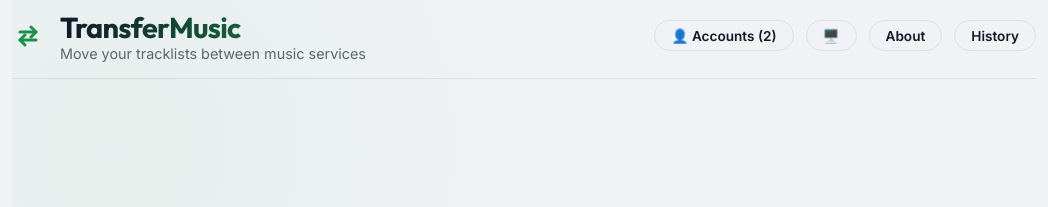
Test: Header › opens the dropdown on click, showing each account with its service icon and a logout button
The width and height of the screenshot is (1048, 207).
What coordinates should you click on to do the following:
click the button "👤 Accounts (2)"
I would click on:
 (724, 36)
Its box is x1=654 y1=20 x2=794 y2=51.
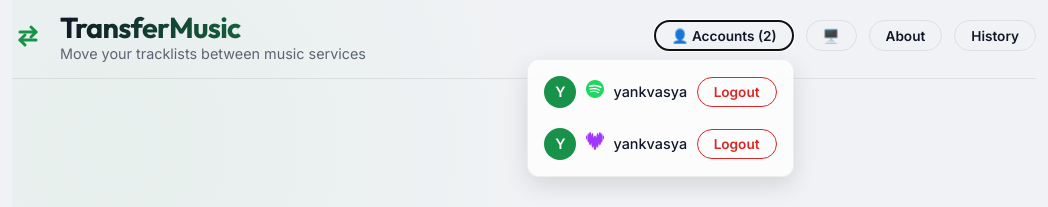
Now the element titled "Spotify" is shown, box x1=586 y1=80 x2=604 y2=104
Now the element titled "Deezer" is shown, box x1=586 y1=132 x2=604 y2=156
Now the number of icons with class "service-icon" is 2, box x1=586 y1=80 x2=604 y2=98; x1=586 y1=132 x2=604 y2=150
